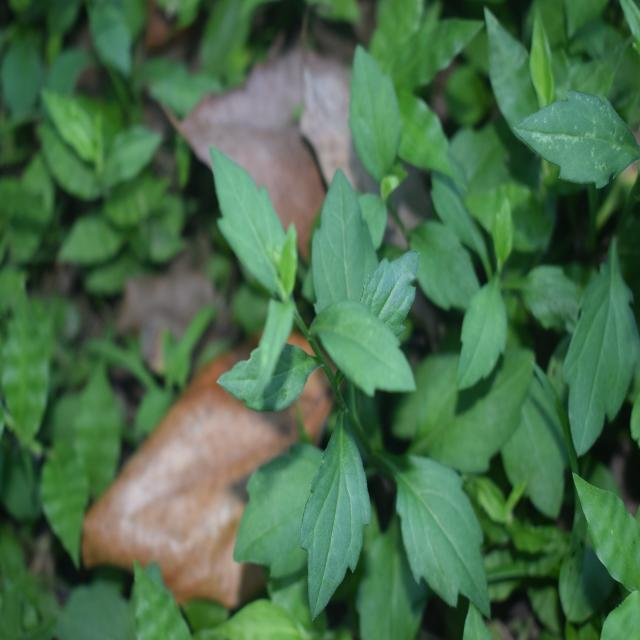Indian aster: (205, 153, 477, 609)
